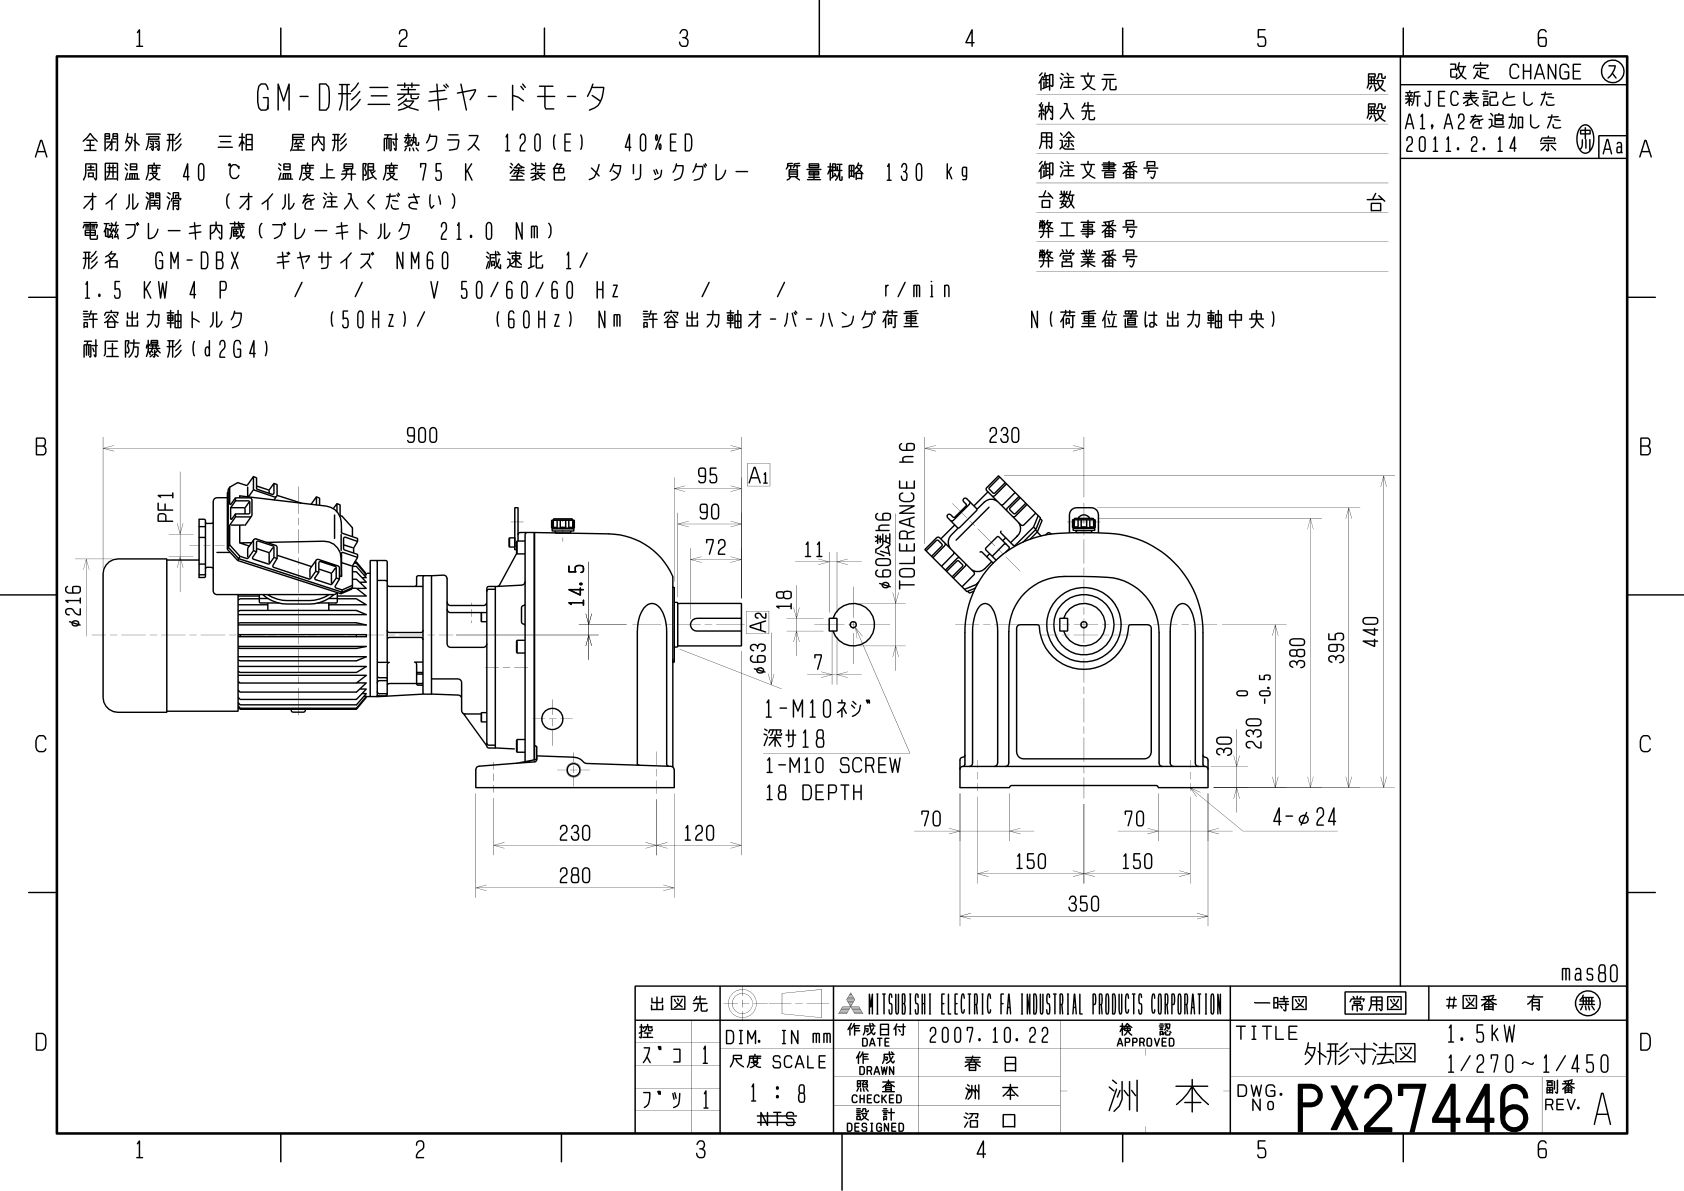GM_D_耐圧屋内_三相_脚: (61, 388, 1393, 951)
